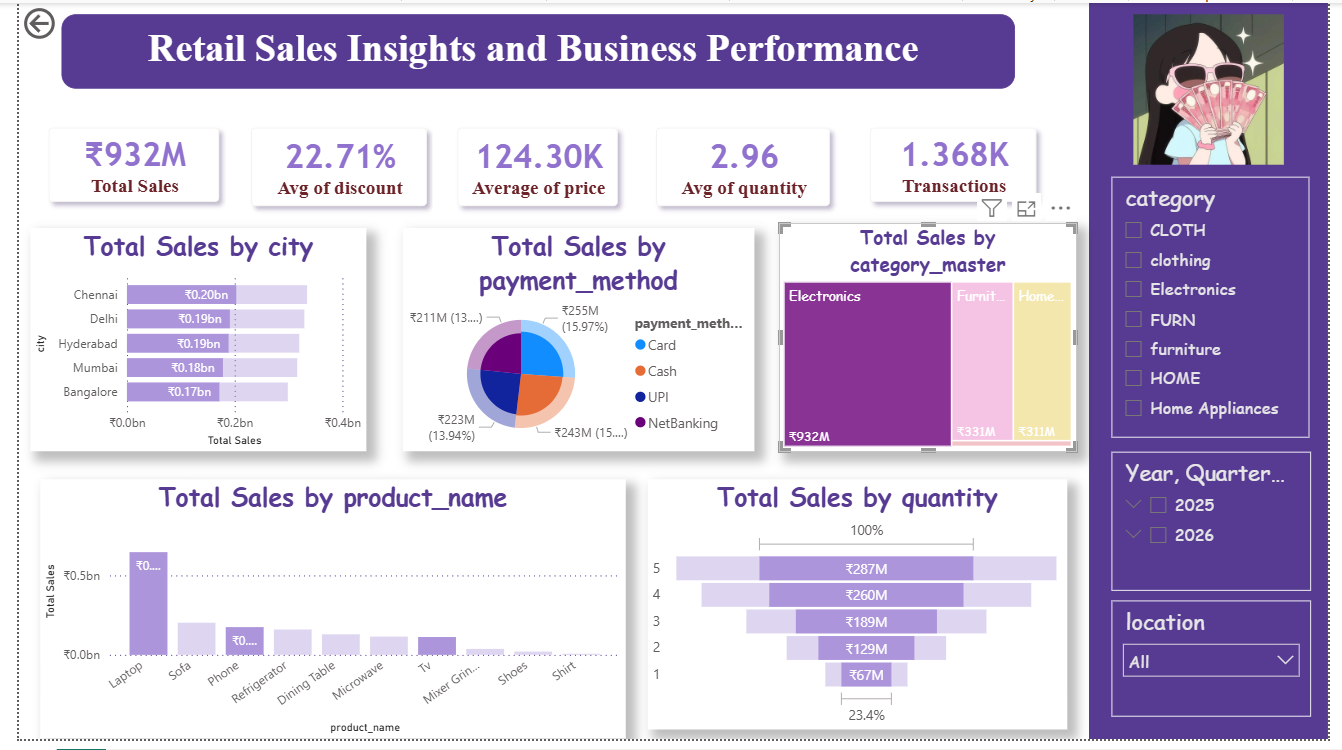

This screenshot's page, from the dashboard's own definition file:
{"tool":"powerbi","page":{"name":"Page 1","canvas":[1280,720],"ordinal":0},"visuals":[{"type":"textbox","box":[41.2,11.2,932.5,72.5],"z":0},{"type":"shape","box":[1046.2,0,233.8,720],"z":1000},{"type":"image","box":[1080,11.2,167.5,147.5],"z":2000},{"type":"cardVisual","fields":{"Data":["Retail_Data_New.Total Sales"]},"box":[0,92.5,225,131.2],"z":3000},{"type":"cardVisual","fields":{"Data":["Avg(Retail_Data_New.discount)"]},"box":[197.5,92.5,230,135],"z":4000},{"type":"slicer","fields":{"Values":["Retail_Data_New.category"]},"box":[1068.8,170,193.8,255],"z":5000},{"type":"cardVisual","fields":{"Data":["Avg(Retail_Data_New.price)"]},"box":[400,92.5,215,135],"z":6000},{"type":"cardVisual","fields":{"Data":["Avg(Retail_Data_New.quantity)"]},"box":[593.8,92.5,228.8,135],"z":7000},{"type":"cardVisual","fields":{"Data":["Count(Retail_Data_New.customer_id)"]},"box":[803.8,92.5,221.2,131.2],"z":8000},{"type":"barChart","fields":{"Y":["Retail_Data_New.Total Sales"],"Category":["Retail_Data_New.city"]},"box":[11.2,220,328.8,218.8],"z":9000},{"type":"pieChart","fields":{"Category":["Retail_Data_New.payment_method"],"Y":["Retail_Data_New.Total Sales"]},"box":[375,220,343.8,218.8],"z":10000},{"type":"slicer","fields":{"Values":["Retail_Data_New.purchase_location"]},"box":[1068.8,585,195,113.8],"z":11000},{"type":"actionButton","box":[0,0,100,40],"z":12000},{"type":"treemap","fields":{"Group":["Retail_Data_New.category_master"],"Values":["Retail_Data_New.Total Sales"]},"box":[743.8,215,291.2,223.8],"z":13000},{"type":"columnChart","fields":{"Y":["Retail_Data_New.Total Sales"],"Category":["Retail_Data_New.product_name"]},"box":[21.2,466.2,572.5,253.8],"z":14000},{"type":"slicer","fields":{"Values":["Retail_Data_New.transaction_date.Variation.Date Hierarchy.Year","Retail_Data_New.transaction_date.Variation.Date Hierarchy.Quarter","Retail_Data_New.transaction_date.Variation.Date Hierarchy.Month","Retail_Data_New.transaction_date.Variation.Date Hierarchy.Day"]},"box":[1068.8,438.8,195,136.2],"z":15000},{"type":"funnel","fields":{"Y":["Retail_Data_New.Total Sales"],"Category":["Retail_Data_New.quantity"]},"box":[615,466.2,410,245],"z":16000}]}

Visuals, with their boxes in screenshot pixels (x1, y1, x2, y2):
textbox: rect(53, 8, 1013, 83)
shape: rect(1087, 0, 1328, 738)
image: rect(1122, 8, 1294, 160)
cardVisual - Retail_Data_New.Total Sales: rect(10, 92, 242, 227)
cardVisual - Avg(Retail_Data_New.discount): rect(214, 92, 450, 231)
slicer - Retail_Data_New.category: rect(1110, 171, 1310, 434)
cardVisual - Avg(Retail_Data_New.price): rect(422, 92, 643, 231)
cardVisual - Avg(Retail_Data_New.quantity): rect(622, 92, 857, 231)
cardVisual - Count(Retail_Data_New.customer_id): rect(838, 92, 1065, 227)
barChart - Retail_Data_New.Total Sales x Retail_Data_New.city: rect(22, 223, 360, 448)
pieChart - Retail_Data_New.payment_method x Retail_Data_New.Total Sales: rect(396, 223, 750, 448)
slicer - Retail_Data_New.purchase_location: rect(1110, 599, 1311, 716)
actionButton: rect(10, 0, 113, 38)
treemap - Retail_Data_New.category_master x Retail_Data_New.Total Sales: rect(776, 218, 1076, 448)
columnChart - Retail_Data_New.Total Sales x Retail_Data_New.product_name: rect(32, 476, 621, 738)
slicer - Retail_Data_New.transaction_date.Variation.Date Hierarchy.Year x Retail_Data_New.transaction_date.Variation.Date Hierarchy.Quarter: rect(1110, 448, 1311, 588)
funnel - Retail_Data_New.Total Sales x Retail_Data_New.quantity: rect(643, 476, 1065, 728)
